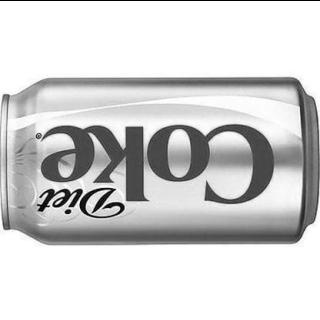alumunium_can: (1, 73, 320, 245)
